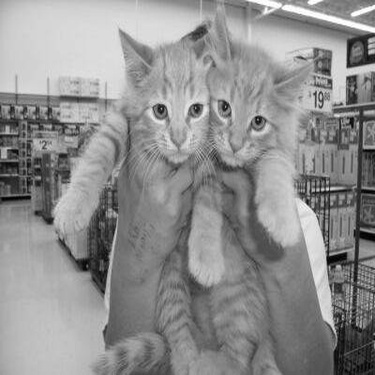cat: (53, 14, 217, 370), (199, 1, 318, 370)
